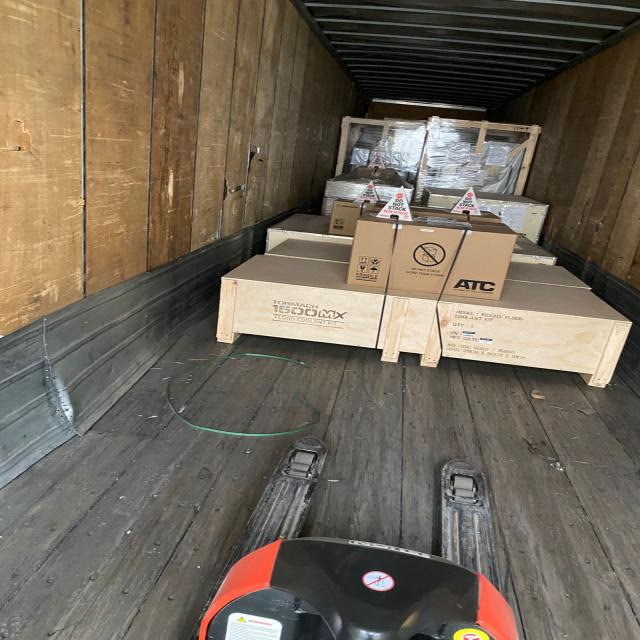flood: (217, 254, 630, 387)
